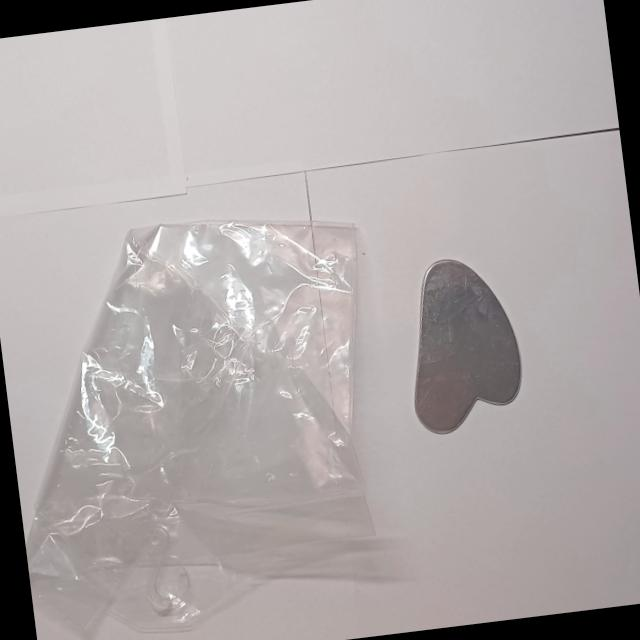Plastic-NonBio: (0, 188, 435, 640)
Steel-NonBio: (392, 246, 532, 439)
